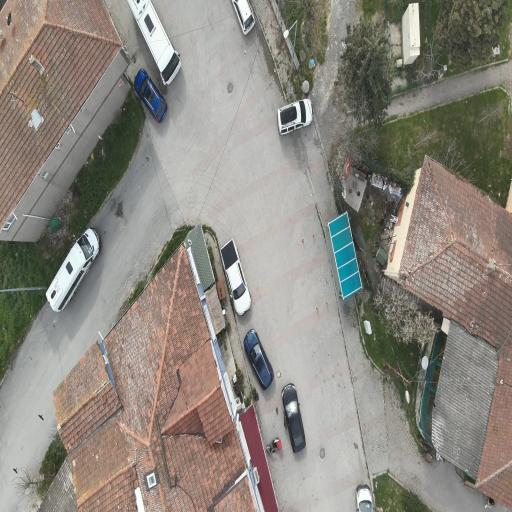car: (46, 229, 100, 312), (127, 0, 180, 84), (221, 239, 251, 315), (134, 69, 167, 122), (244, 329, 273, 389), (281, 383, 306, 452), (277, 98, 313, 135), (232, 0, 255, 34), (356, 485, 374, 511)
